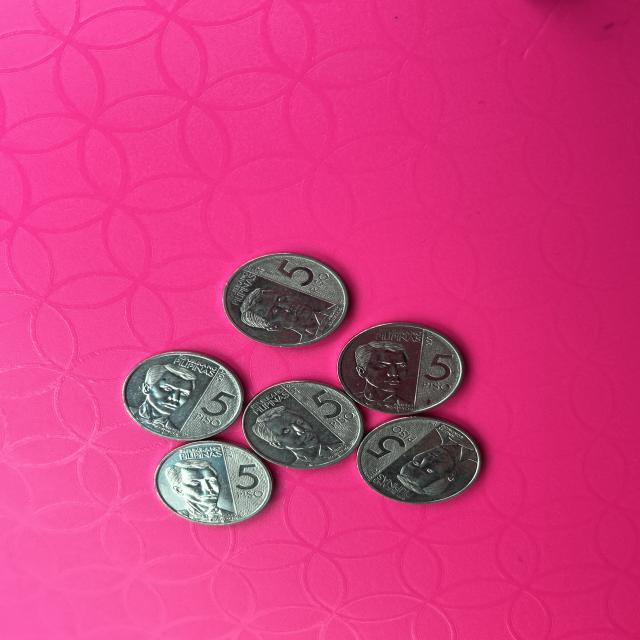5_New_Front: (267, 254, 330, 297), (410, 338, 456, 395), (224, 457, 275, 506), (362, 418, 410, 466), (302, 390, 358, 431), (199, 390, 243, 435)
